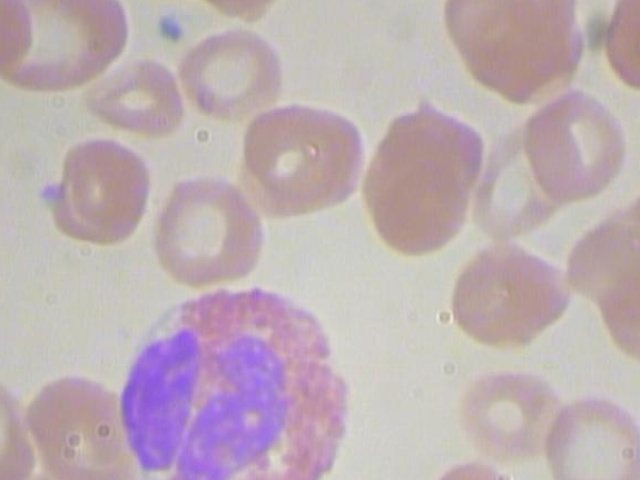Platelets: (151, 5, 190, 44)
RBC: (226, 94, 370, 222), (433, 234, 580, 356), (360, 124, 475, 262), (150, 166, 274, 292), (521, 85, 635, 207), (448, 360, 575, 468), (0, 0, 135, 99), (44, 132, 155, 250), (177, 12, 288, 130), (80, 52, 187, 142), (536, 392, 640, 480)
WBC: (92, 278, 362, 480)
